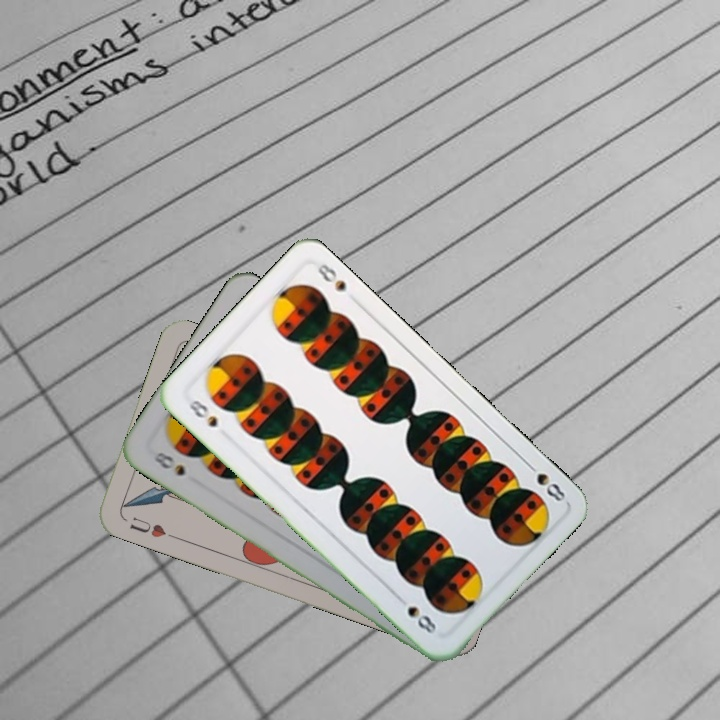HU: (125, 512, 169, 540)
S8: (521, 457, 568, 504), (184, 395, 220, 430), (149, 447, 188, 479)
